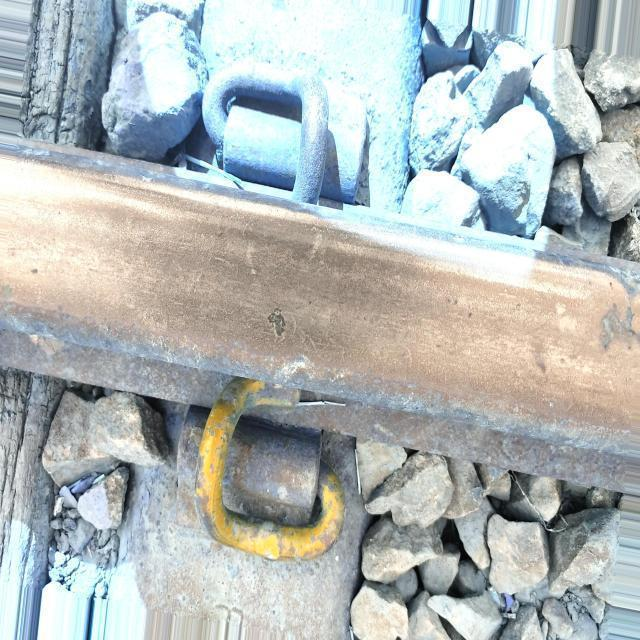head_checks_low: (599, 299, 640, 355), (268, 306, 287, 342), (29, 264, 42, 281)
